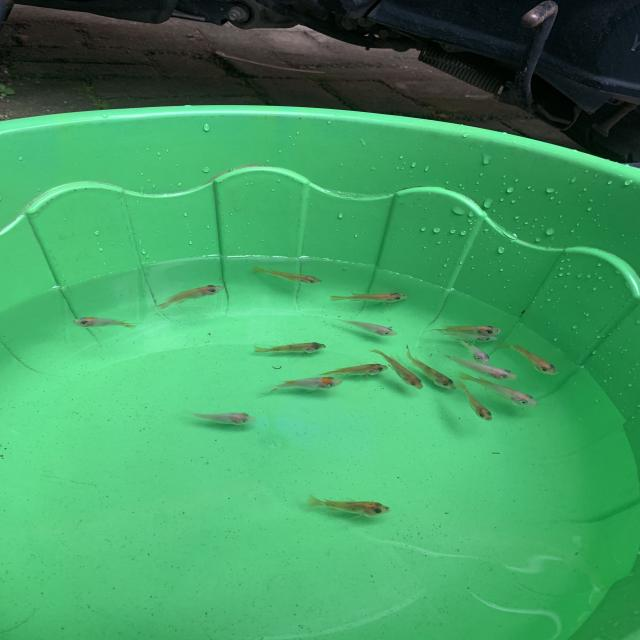nila: (391, 342, 463, 395), (458, 372, 552, 411), (360, 345, 433, 395), (432, 346, 518, 384), (498, 334, 564, 382), (179, 400, 263, 436), (147, 281, 229, 311), (249, 336, 335, 364), (321, 310, 401, 340), (456, 380, 501, 430), (249, 262, 328, 289), (304, 492, 396, 515), (445, 328, 497, 367), (266, 372, 354, 394), (328, 288, 419, 308), (427, 318, 510, 338), (64, 314, 144, 334), (318, 359, 390, 380), (432, 324, 499, 346)
